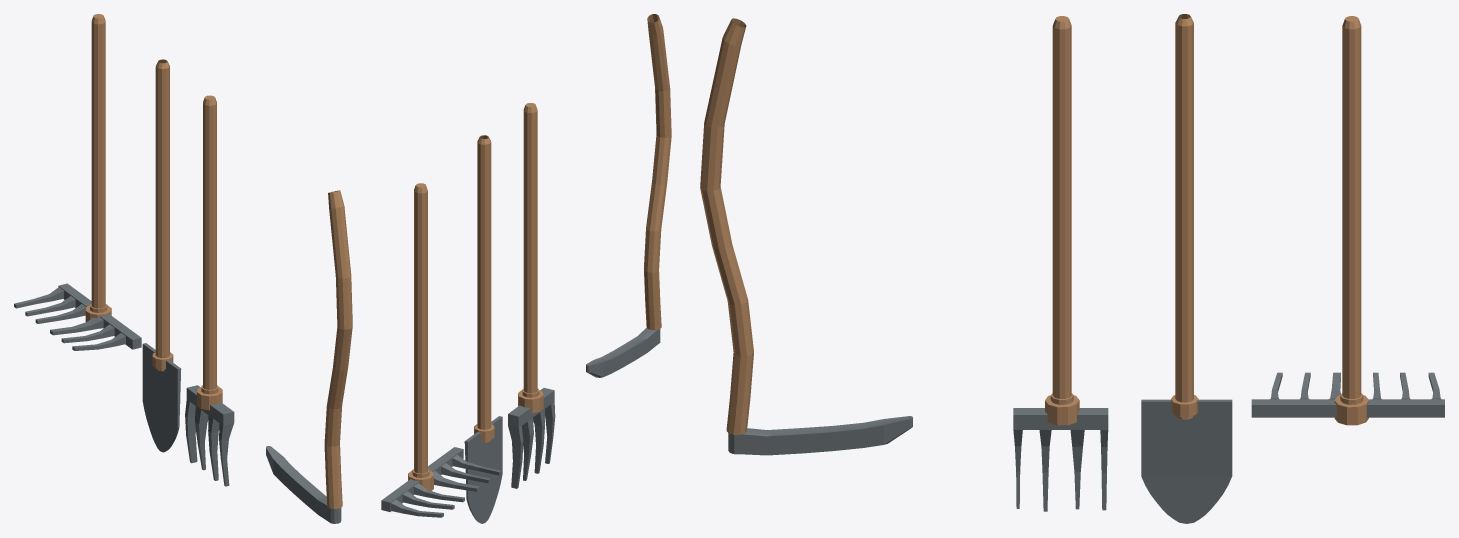
Rendered from FarmTools.fbx.
The picture shows the model from 3 angles, left to right: view 1: azimuth 30°, elevation 25°; view 2: azimuth 150°, elevation 25°; view 3: azimuth 270°, elevation 25°; orthographic projection. The views are drawn at different scales.
Parts seen in each view (by area): view 1: Cylinder.003, Cylinder.002, Cylinder, Cylinder.004; view 2: Cylinder, Cylinder.003, Cylinder.002, Cylinder.004; view 3: Cylinder.002, Cylinder.004, Cylinder.003, Cylinder.
Boxes of the visible parts, x1,y1,x2,y2 form: Cylinder.003: (14,14,141,350); Cylinder.002: (142,59,181,452); Cylinder: (185,95,234,486); Cylinder.004: (266,190,352,523); Cylinder: (508,103,555,488); Cylinder.003: (381,183,501,517); Cylinder.002: (464,135,502,523); Cylinder.004: (586,14,671,377); Cylinder.002: (1141,14,1232,523); Cylinder.004: (700,18,912,455); Cylinder.003: (1251,16,1444,425); Cylinder: (1013,16,1108,511).
Size of the model in its own units: 65.56 by 383 by 509.
